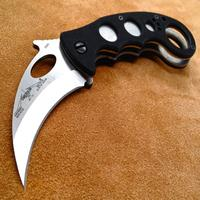knife: (9, 11, 193, 193)
